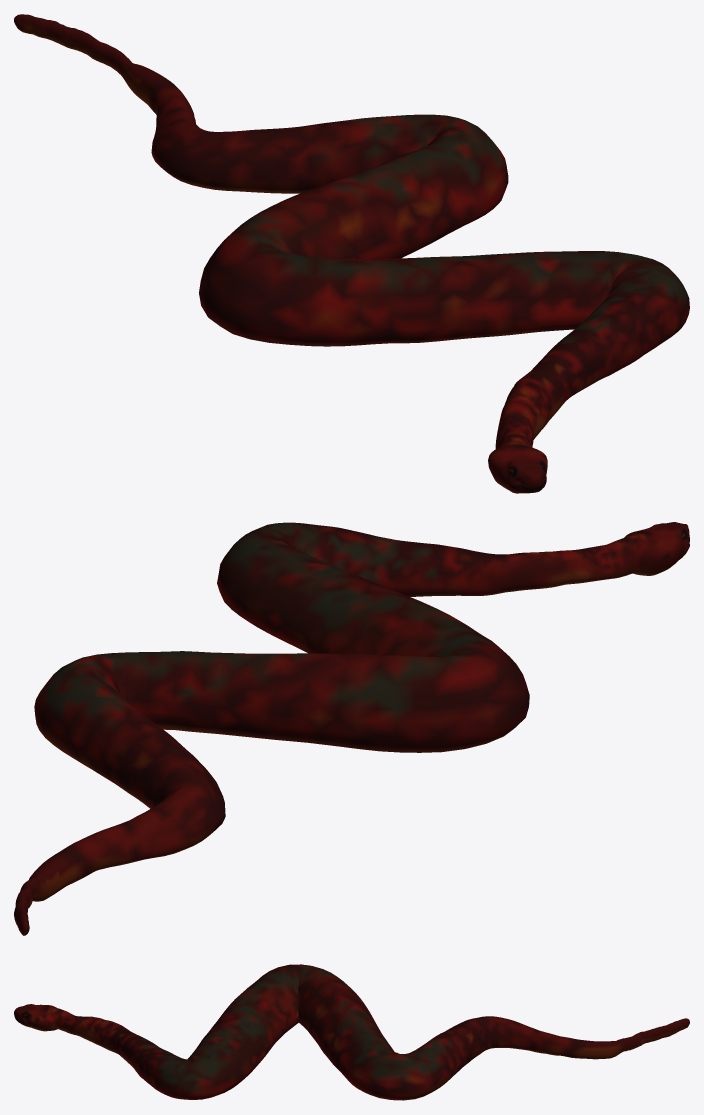
The model's file is ularsanca.fbx.
3 views of the same model, one above another, from view 1: azimuth 30°, elevation 25°; view 2: azimuth 150°, elevation 25°; view 3: azimuth 270°, elevation 25° (orthographic). The views are drawn at different scales.
Parts seen in each view (by area): view 1: Snake; view 2: Snake; view 3: Snake.
Part boxes in pixels (bbox=[...]): Snake: bbox=[14, 14, 689, 493]; Snake: bbox=[14, 522, 689, 935]; Snake: bbox=[14, 964, 689, 1100].
Bounding box in the file's own units: 963 × 222 × 2589.
